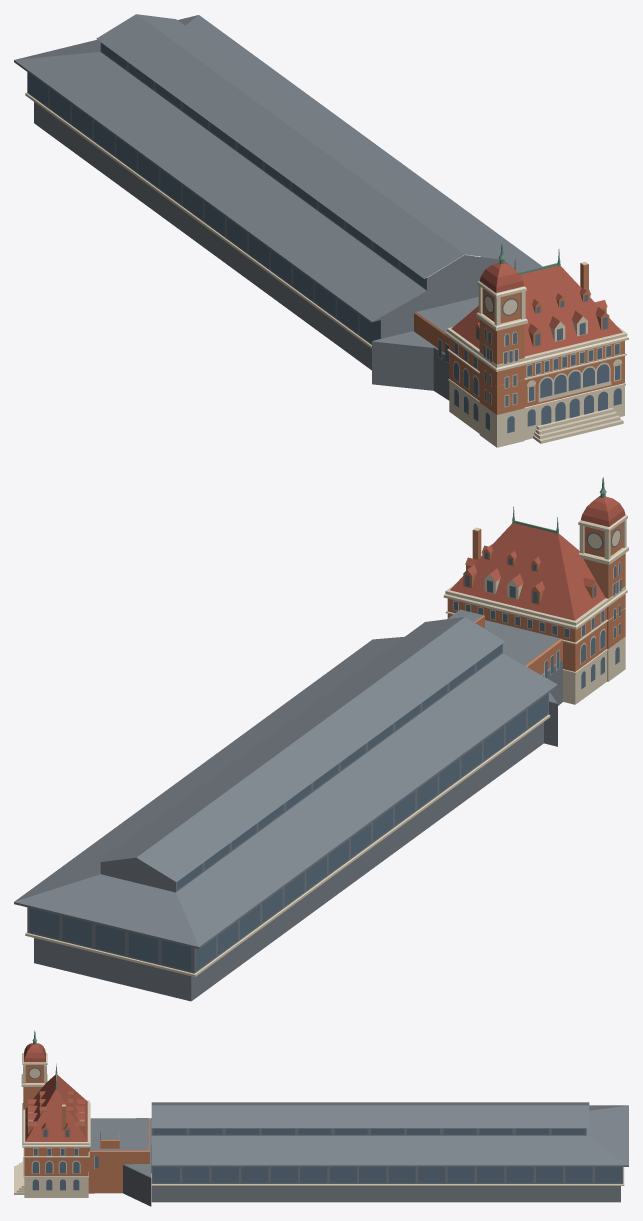
The model's file is ric-main-street-station.glb.
3 views of the same model, one above another, from view 1: azimuth 30°, elevation 25°; view 2: azimuth 150°, elevation 25°; view 3: azimuth 270°, elevation 25° (orthographic). The views are drawn at different scales.
Parts seen in each view (by area): view 1: Main Street Station; view 2: Main Street Station; view 3: Main Street Station.
Boxes of the visible parts, left/top/right/bottom form: Main Street Station: left=14, top=14, right=628, bottom=447; Main Street Station: left=14, top=477, right=628, bottom=1001; Main Street Station: left=14, top=1030, right=628, bottom=1206.
Size of the model in its own units: 44.3 by 44.7 by 191.
